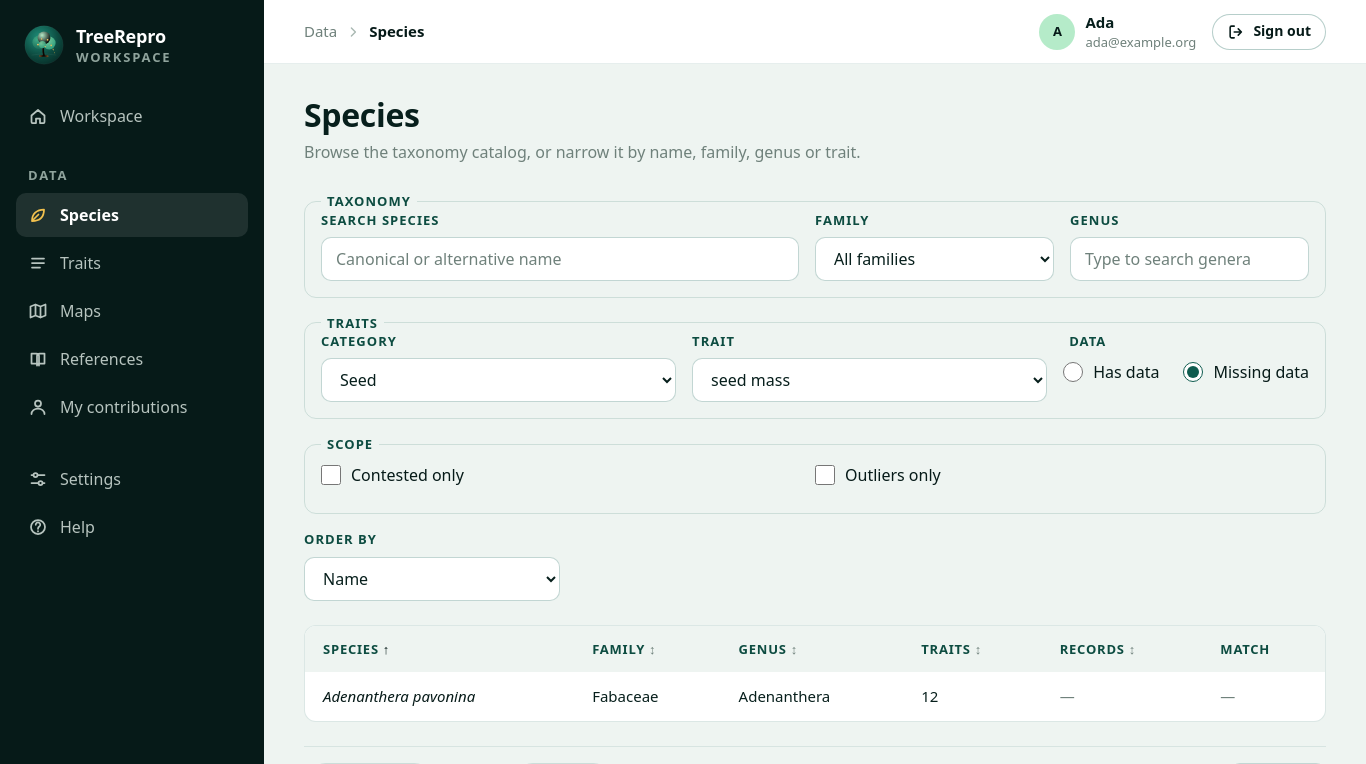
RFC-60 R6 SpeciesSearchPage trait filters, order and the URL › clearing the category of a trait-only deep link takes the trait out of the URL
Select "All categories" in the dropdown labelled "Category" at (499, 380), box x1=321 y1=358 x2=676 y2=402
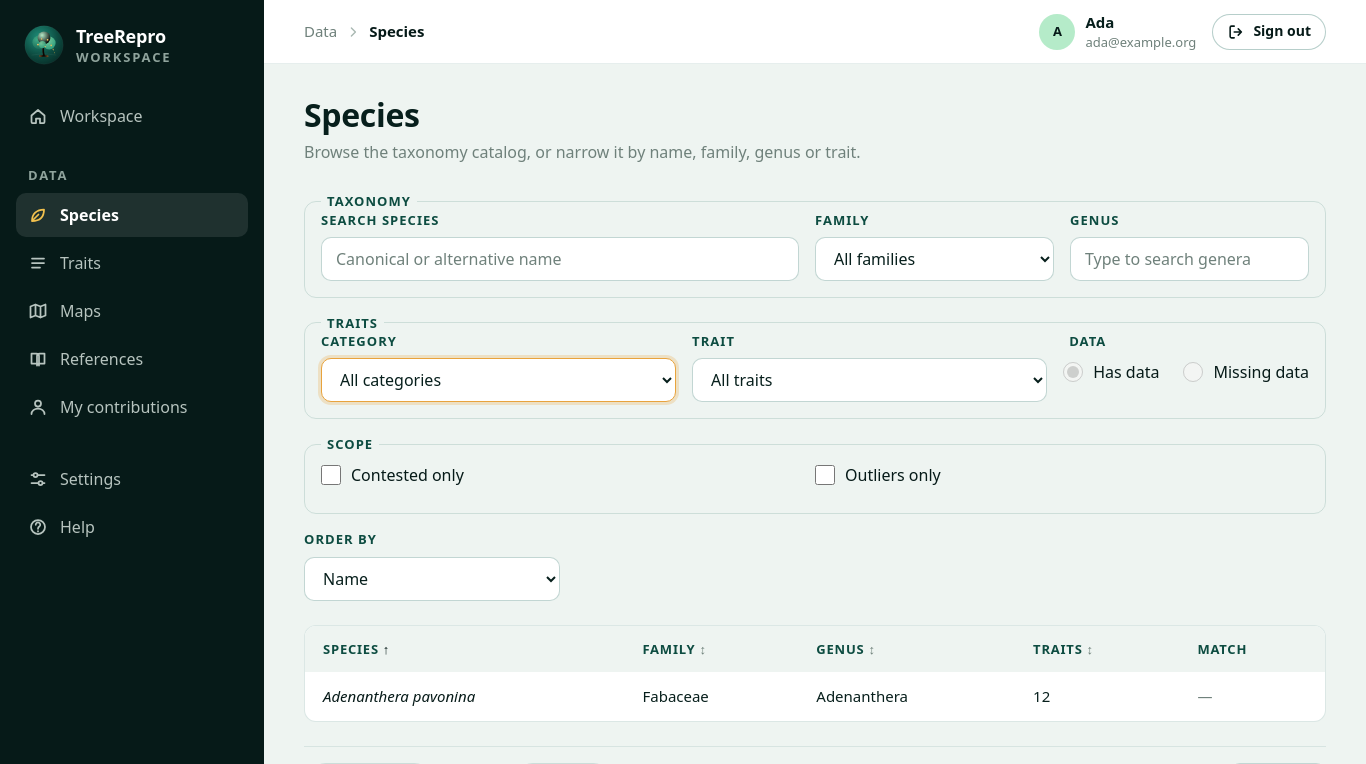
Result: the button "Records" is gone
